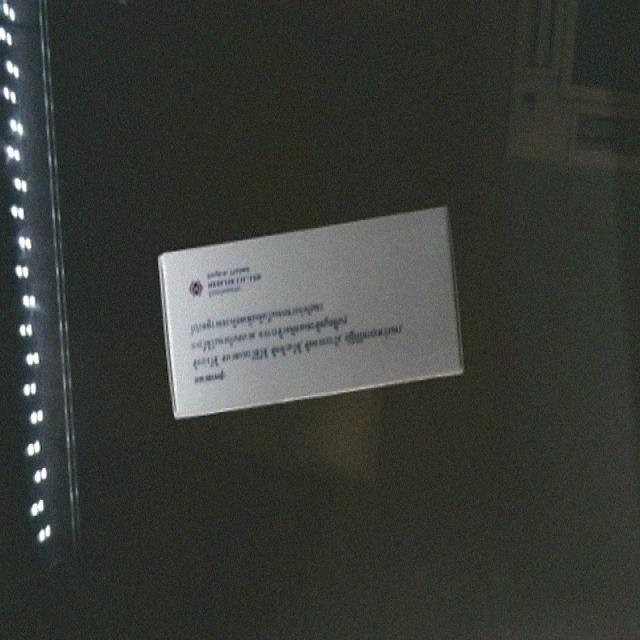sefloc: (142, 201, 478, 422)
